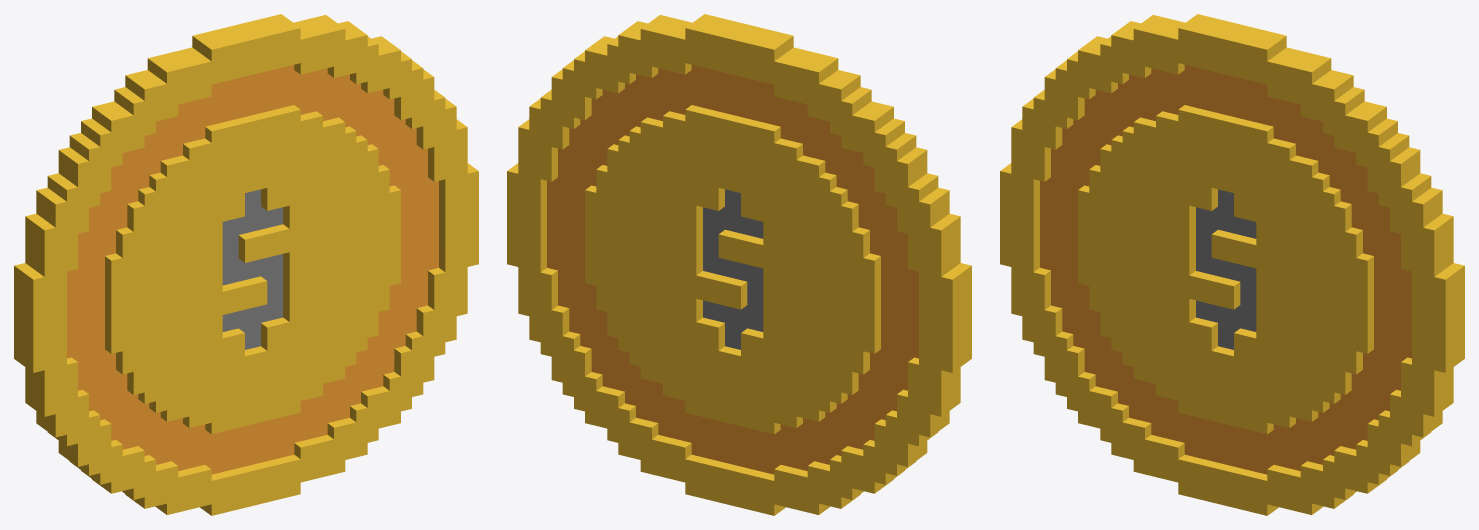
The model's file is GoldenCoin.obj.
3 views of the same model, side by side, from view 1: azimuth 30°, elevation 25°; view 2: azimuth 150°, elevation 25°; view 3: azimuth 330°, elevation 25° (orthographic).
Size of the model in its own units: 4 by 4 by 0.3.
Materials: 1 (1 with a texture image).
